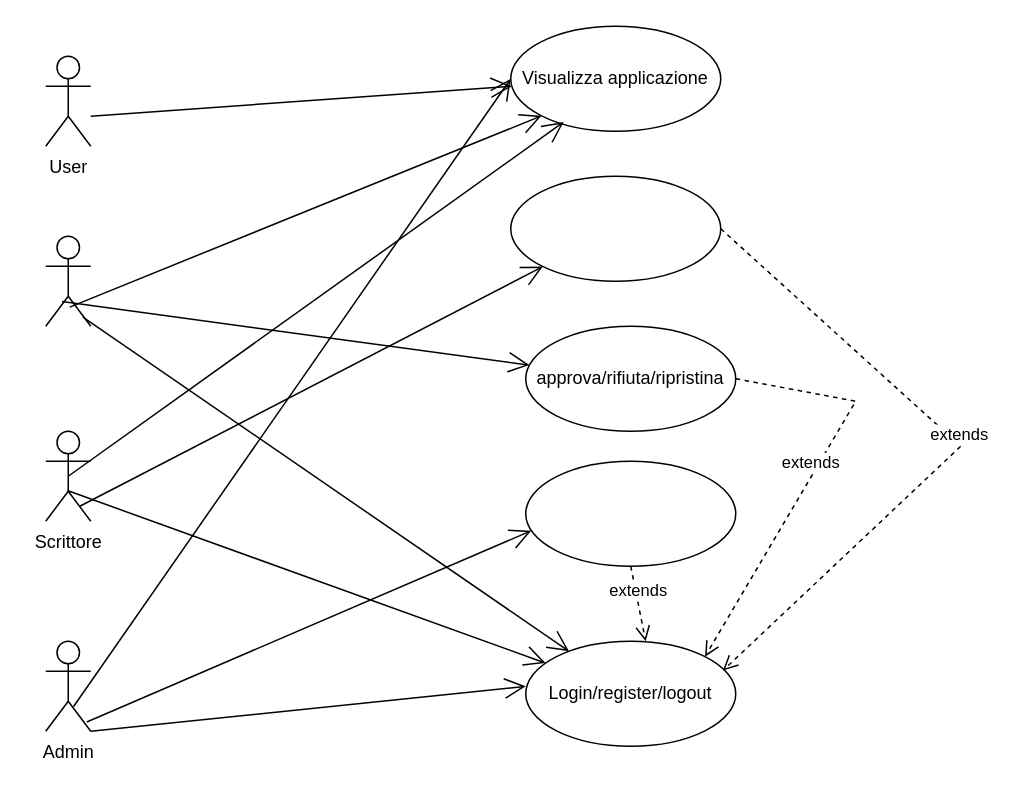
Image size: 1016x789. Some labels were removed from this diagram. Each missing label, with the centre of its shape:
Accetta i ruoli: pixel 630 513
Evaluatore: pixel 67 280
Produce contenuto: pixel 615 228
